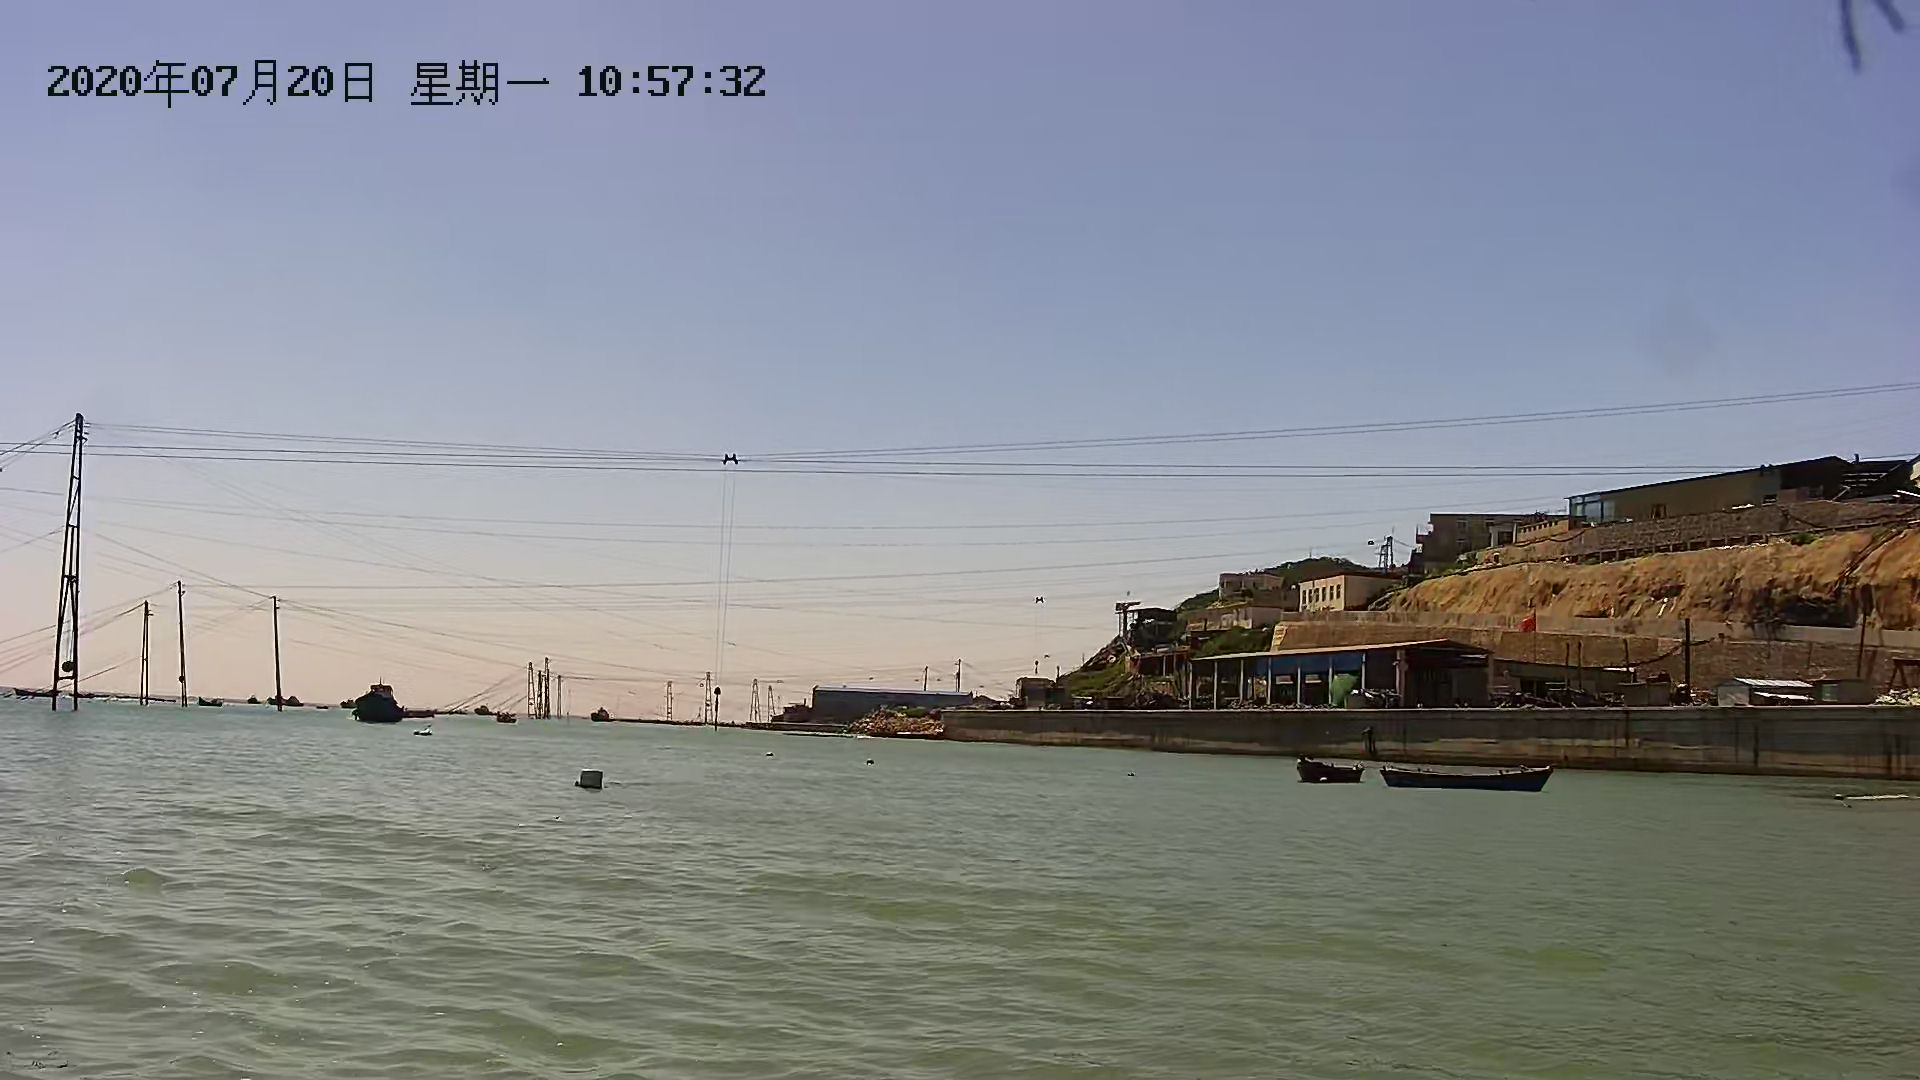boat: (1377, 761, 1553, 796), (1292, 754, 1362, 789)
mast: (45, 413, 87, 713), (169, 578, 193, 711), (268, 593, 290, 717), (137, 601, 156, 708)
rubbish: (568, 764, 615, 796)
ship: (349, 675, 411, 727)
